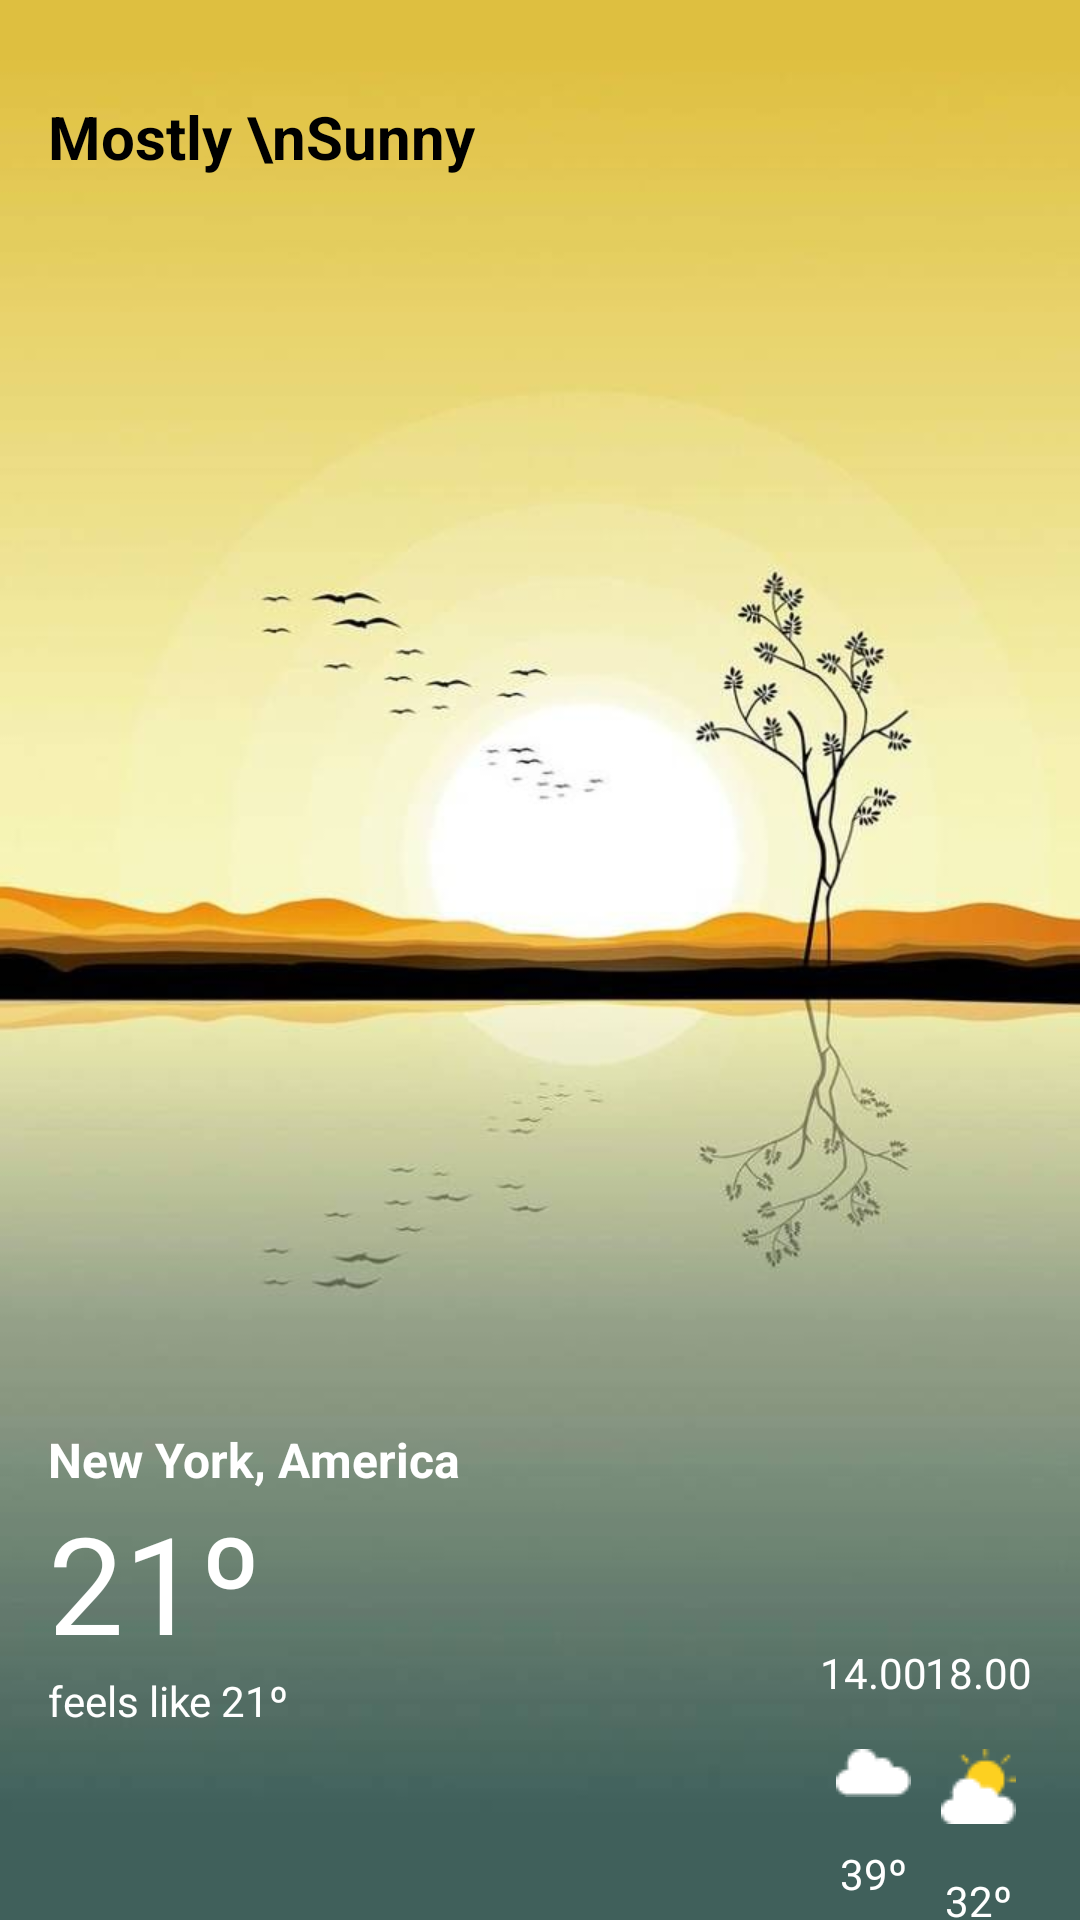

Point at icon controls on the screen. Image size 1080px×1920px, points as [x,y].
cloud: [873,1773]
cloudy: [978,1786]
